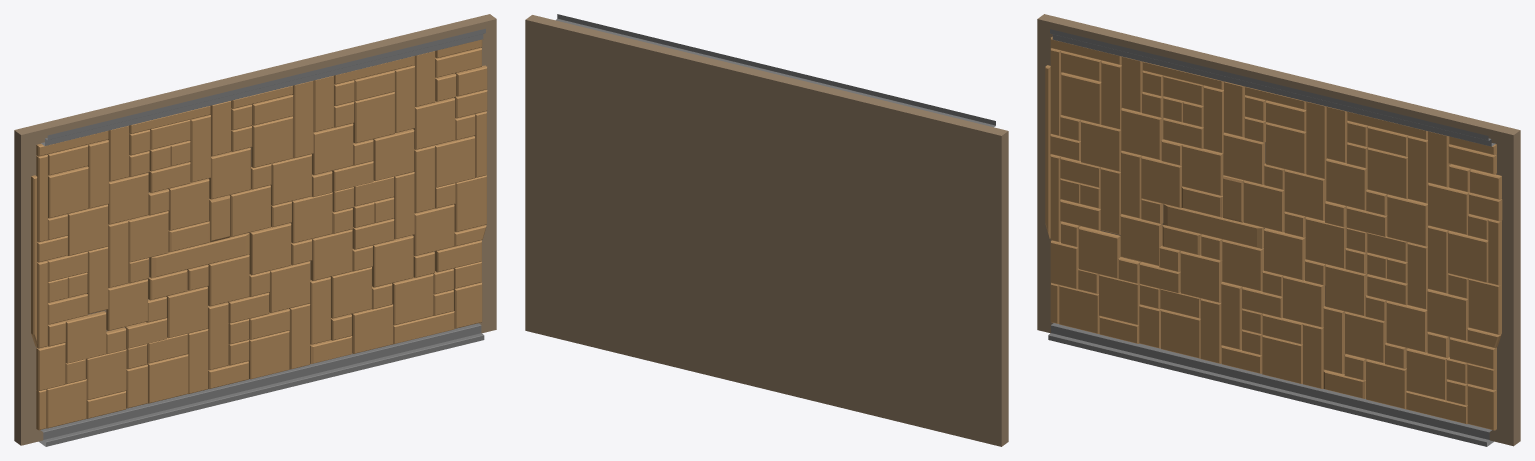
The model's file is wall_simple_0.fbx.
The picture shows the model from 3 angles, left to right: view 1: azimuth 30°, elevation 25°; view 2: azimuth 150°, elevation 25°; view 3: azimuth 330°, elevation 25°; orthographic projection.
Parts seen in each view (by area): view 1: wall_simple_0; view 2: wall_simple_0; view 3: wall_simple_0.
Part boxes in pixels (x1=…): wall_simple_0: x1=14, y1=14, x2=496, y2=446; wall_simple_0: x1=525, y1=14, x2=1008, y2=446; wall_simple_0: x1=1037, y1=14, x2=1520, y2=446.
Size of the model in its own units: 157 by 7.97 by 98.43.
